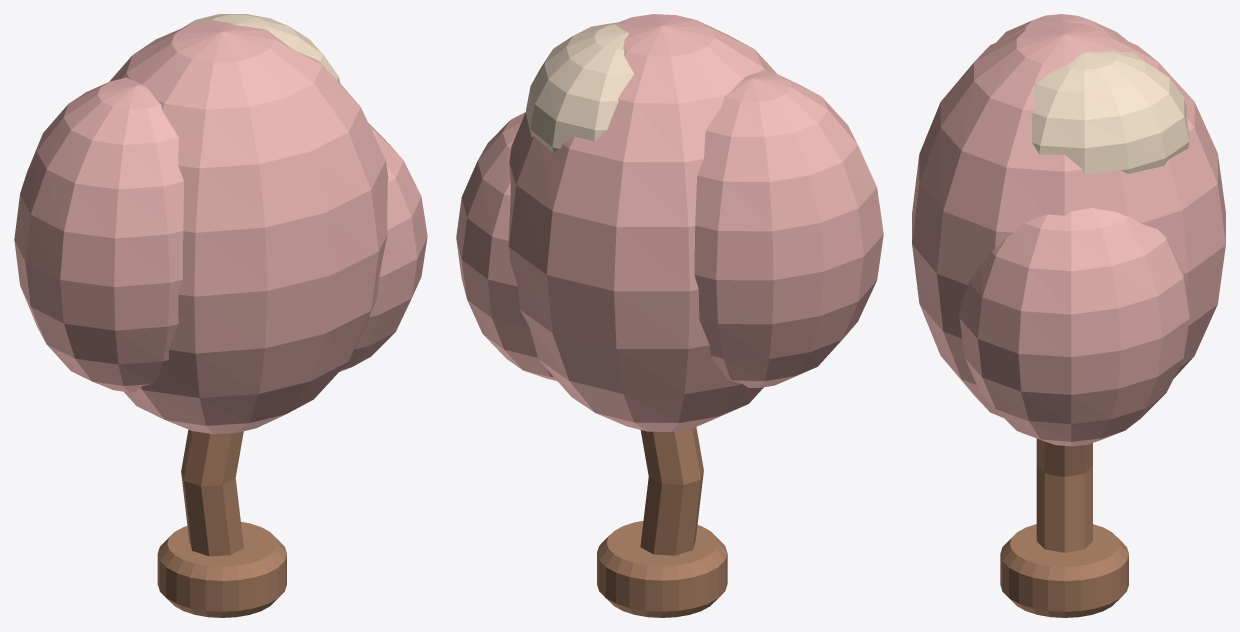
The model's file is BlossomTree.obj.
3 renders of one model, left to right at view 1: azimuth 30°, elevation 25°; view 2: azimuth 150°, elevation 25°; view 3: azimuth 270°, elevation 25°, orthographic.
Visible parts, largest first — view 1: Main_crown, Crown_right, Flared_roots, Crown_left, Curved_trunk, Crown_highlight; view 2: Main_crown, Crown_right, Crown_left, Crown_highlight, Flared_roots, Curved_trunk; view 3: Main_crown, Crown_left, Crown_highlight, Flared_roots, Curved_trunk, Crown_right.
Boxes of the visible parts, bbox=[...] form: Main_crown: bbox=[109, 20, 388, 434]; Crown_right: bbox=[14, 77, 183, 392]; Flared_roots: bbox=[157, 522, 286, 617]; Crown_left: bbox=[339, 122, 427, 371]; Curved_trunk: bbox=[181, 429, 243, 556]; Crown_highlight: bbox=[183, 14, 340, 83]; Main_crown: bbox=[508, 14, 776, 432]; Crown_right: bbox=[694, 70, 883, 387]; Crown_left: bbox=[456, 112, 557, 381]; Crown_highlight: bbox=[526, 22, 633, 153]; Flared_roots: bbox=[597, 521, 727, 617]; Curved_trunk: bbox=[640, 427, 703, 555]; Main_crown: bbox=[912, 22, 1225, 418]; Crown_left: bbox=[959, 208, 1189, 446]; Crown_highlight: bbox=[1032, 50, 1189, 174]; Flared_roots: bbox=[1000, 524, 1128, 617]; Curved_trunk: bbox=[1036, 438, 1092, 552]; Crown_right: bbox=[996, 14, 1127, 42].
Bounding box in the file's own units: 3.32 × 4.61 × 2.34.
